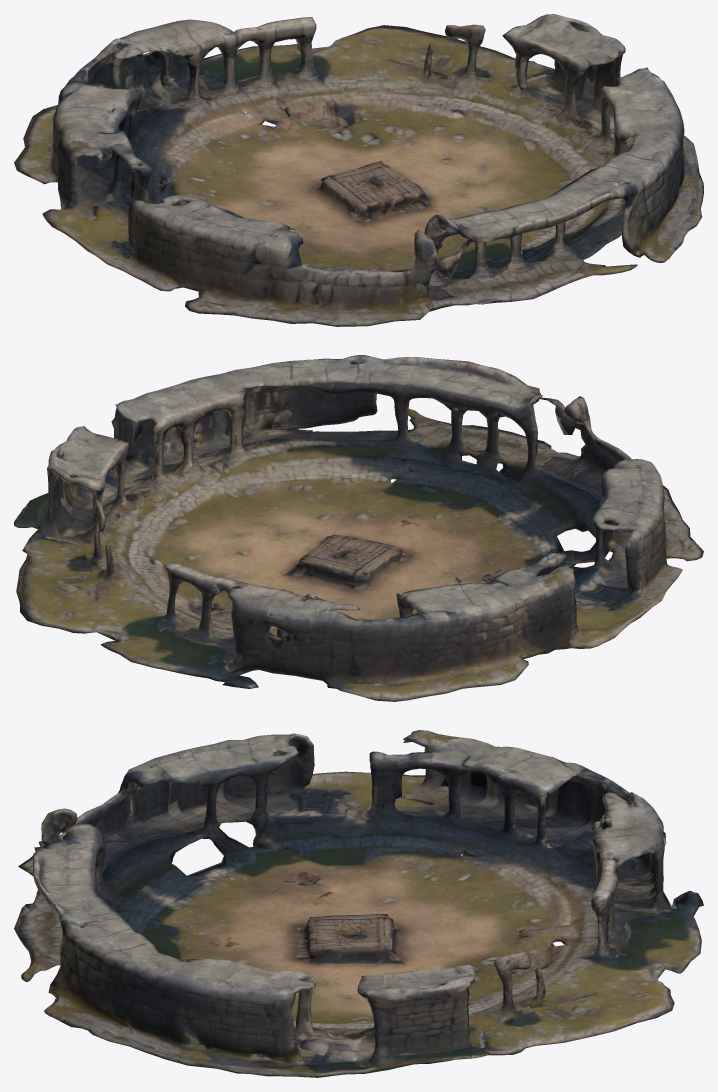
File: arena3.glb
3 views of the same model, one above another, from view 1: azimuth 30°, elevation 25°; view 2: azimuth 150°, elevation 25°; view 3: azimuth 270°, elevation 25° (orthographic). The views are drawn at different scales.
Size of the model in its own units: 1.99 by 0.3055 by 1.96.
1 material, 1 textured.
